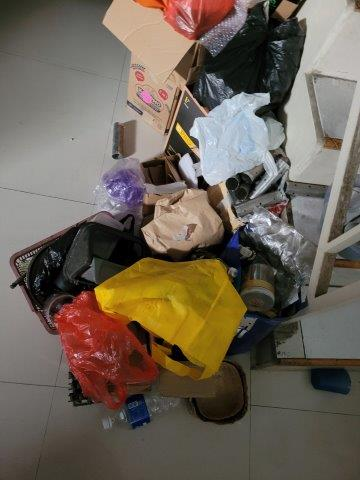botolplastik: (106, 382, 188, 436)
kardus: (111, 3, 189, 132)
plastik: (62, 300, 145, 406), (226, 20, 303, 100), (197, 97, 266, 179), (103, 162, 142, 213), (165, 1, 233, 21)
